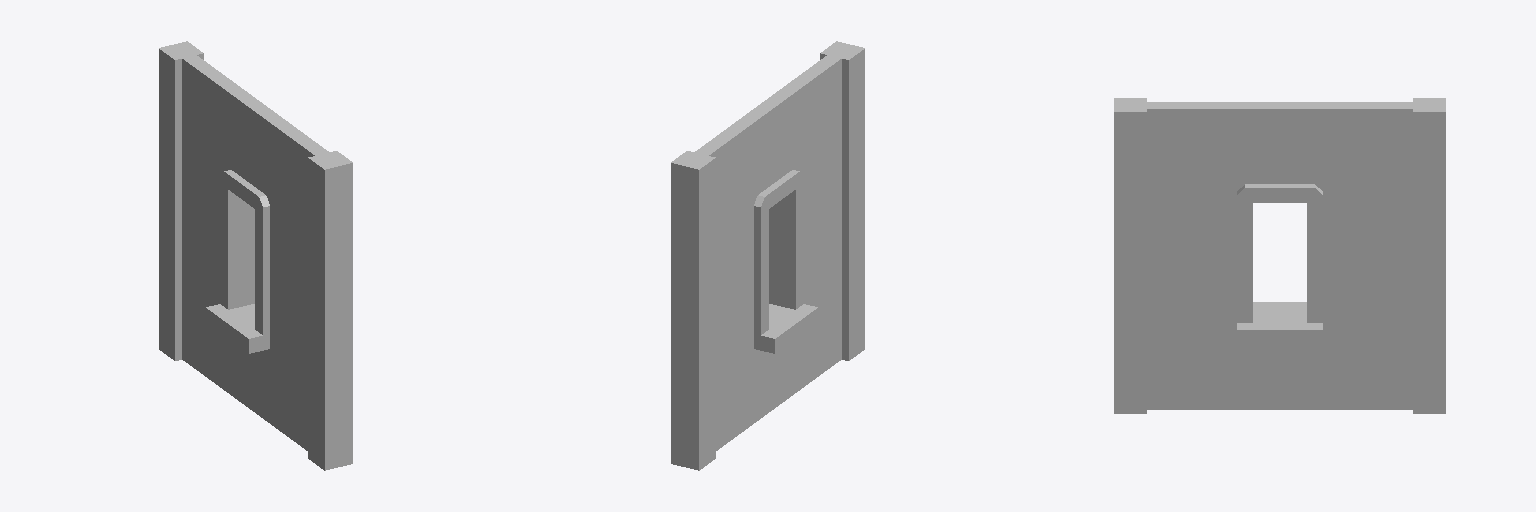
File: wall-wood-window-small.obj
The picture shows the model from 3 angles: view 1: azimuth 30°, elevation 25°; view 2: azimuth 150°, elevation 25°; view 3: azimuth 270°, elevation 25°; orthographic projection.
Parts seen in each view (by area): view 1: wall-wood-window-small; view 2: wall-wood-window-small; view 3: wall-wood-window-small.
Part boxes in pixels (x1,y1,x2,y2): wall-wood-window-small: (159,41,352,470); wall-wood-window-small: (671,41,864,470); wall-wood-window-small: (1114,98,1445,413).
Bounding box in the file's own units: 0.2 × 1 × 1.